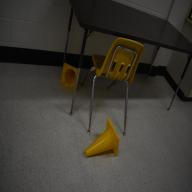cone: (84, 116, 120, 158), (60, 62, 78, 92)
